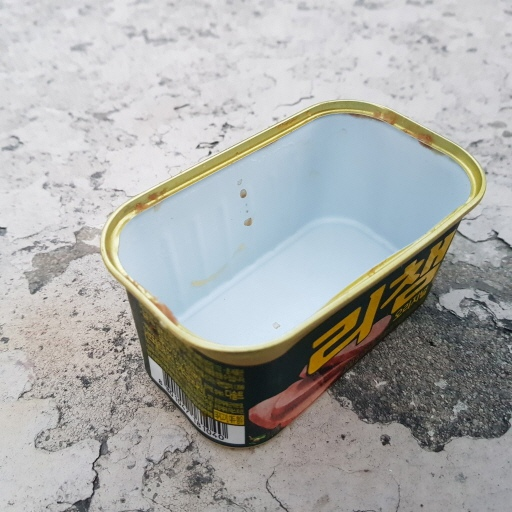Metal_2: (102, 97, 487, 445)
